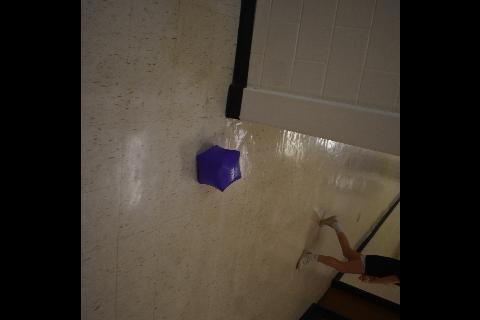cube: (194, 144, 242, 192)
